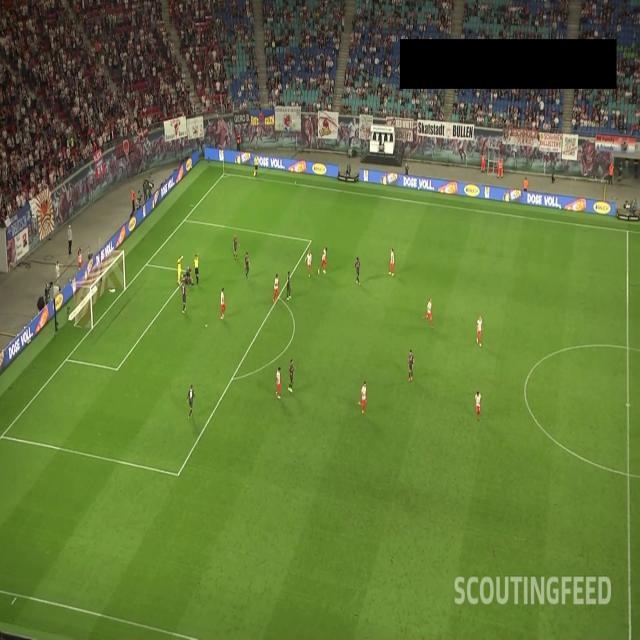player: (186, 383, 197, 418), (476, 312, 485, 348), (406, 346, 414, 382), (288, 357, 296, 393), (272, 271, 280, 305), (218, 286, 226, 319), (474, 389, 482, 421), (180, 284, 188, 314), (175, 254, 183, 284), (425, 298, 434, 324), (387, 248, 395, 277), (285, 267, 292, 300), (275, 367, 282, 399), (244, 250, 252, 278), (320, 246, 328, 274), (355, 255, 362, 284), (361, 377, 366, 416), (232, 232, 238, 258), (183, 272, 194, 284), (307, 250, 311, 278), (186, 265, 191, 282)
